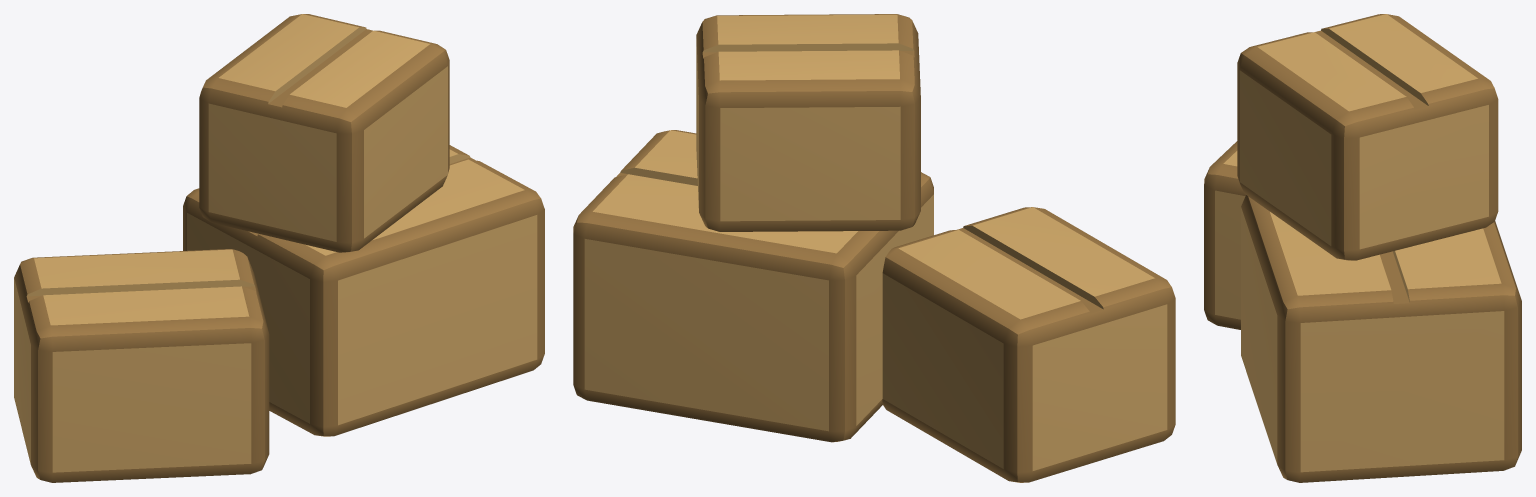
Rendered from PropStoneBlocks.fbx.
3 renders of one model, left to right at view 1: azimuth 30°, elevation 25°; view 2: azimuth 150°, elevation 25°; view 3: azimuth 270°, elevation 25°, orthographic. The views are drawn at different scales.
Parts seen in each view (by area): view 1: PropStoneBlocks_LOD0; view 2: PropStoneBlocks_LOD0; view 3: PropStoneBlocks_LOD0.
Part boxes in pixels (x1,y1,x2,y2): PropStoneBlocks_LOD0: (14, 14, 544, 482); PropStoneBlocks_LOD0: (573, 14, 1175, 482); PropStoneBlocks_LOD0: (1204, 14, 1521, 482).
Size of what is drawn, in the model's own units: 0.8726 by 0.54 by 0.4633.
